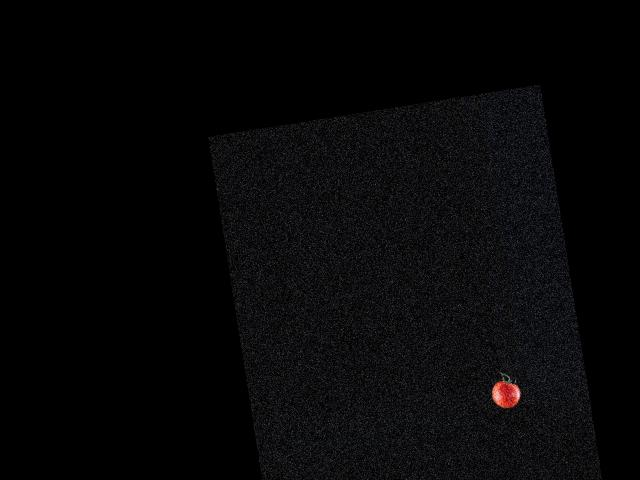tomato: (489, 378, 522, 410)
